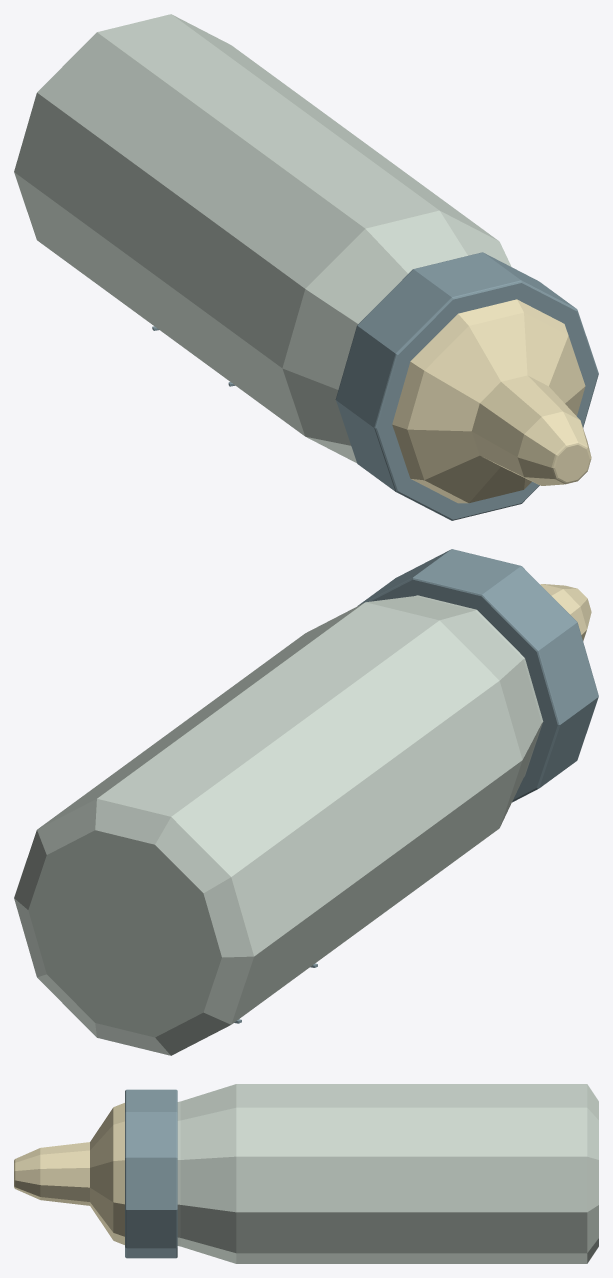
The model's file is baby_bottle.glb.
The picture shows the model from 3 angles, top to bottom: view 1: azimuth 30°, elevation 25°; view 2: azimuth 150°, elevation 25°; view 3: azimuth 270°, elevation 25°; orthographic projection. The views are drawn at different scales.
Parts seen in each view (by area): view 1: baby_bottle; view 2: baby_bottle; view 3: baby_bottle.
Boxes of the visible parts, bbox=[...] form: baby_bottle: bbox=[14, 14, 598, 520]; baby_bottle: bbox=[14, 549, 598, 1055]; baby_bottle: bbox=[14, 1084, 598, 1263].
Bounding box in the file's own units: 0.062 × 0.0621 × 0.2.
